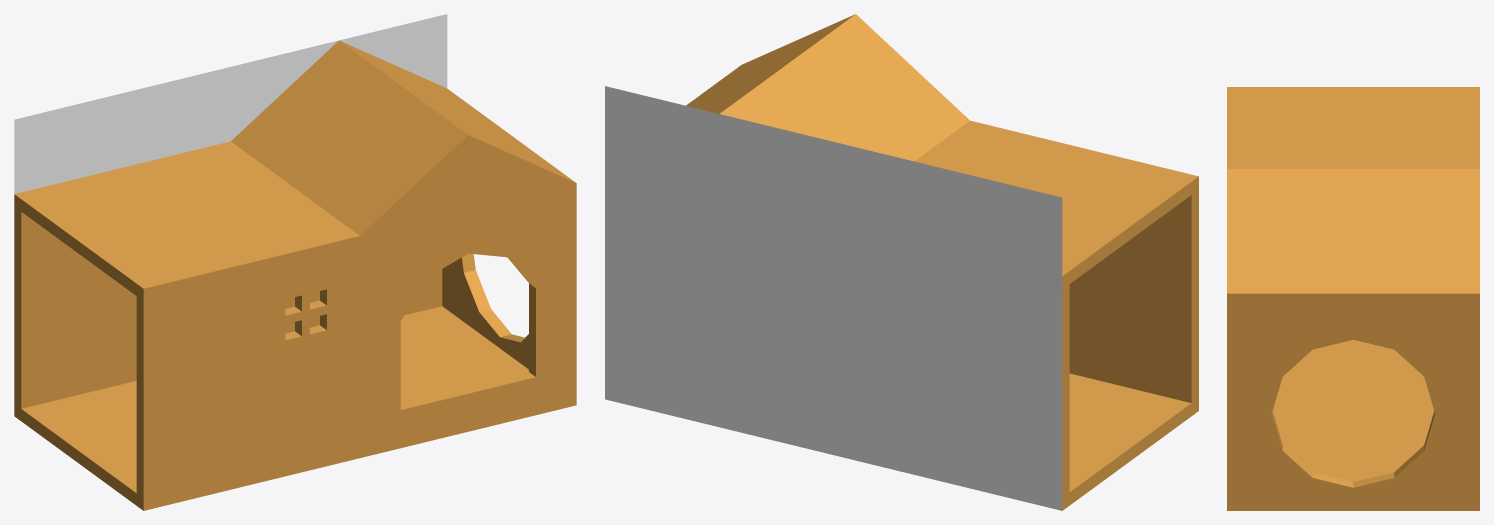
The model's file is 大猫房子-右.glb.
3 views of the same model, side by side, from view 1: azimuth 30°, elevation 25°; view 2: azimuth 150°, elevation 25°; view 3: azimuth 270°, elevation 25° (orthographic). The views are drawn at different scales.
Parts seen in each view (by area): view 1: 立方体.003, 大猫房子-右; view 2: 大猫房子-右, 立方体.003; view 3: 立方体.003.
Part boxes in pixels (<box>): 立方体.003: <box>14,40,576,510</box>; 大猫房子-右: <box>14,14,447,193</box>; 大猫房子-右: <box>605,86,1062,510</box>; 立方体.003: <box>686,14,1198,510</box>; 立方体.003: <box>1227,87,1479,510</box>.
Bounding box in the file's own units: 0.58 × 0.3798 × 0.3.
